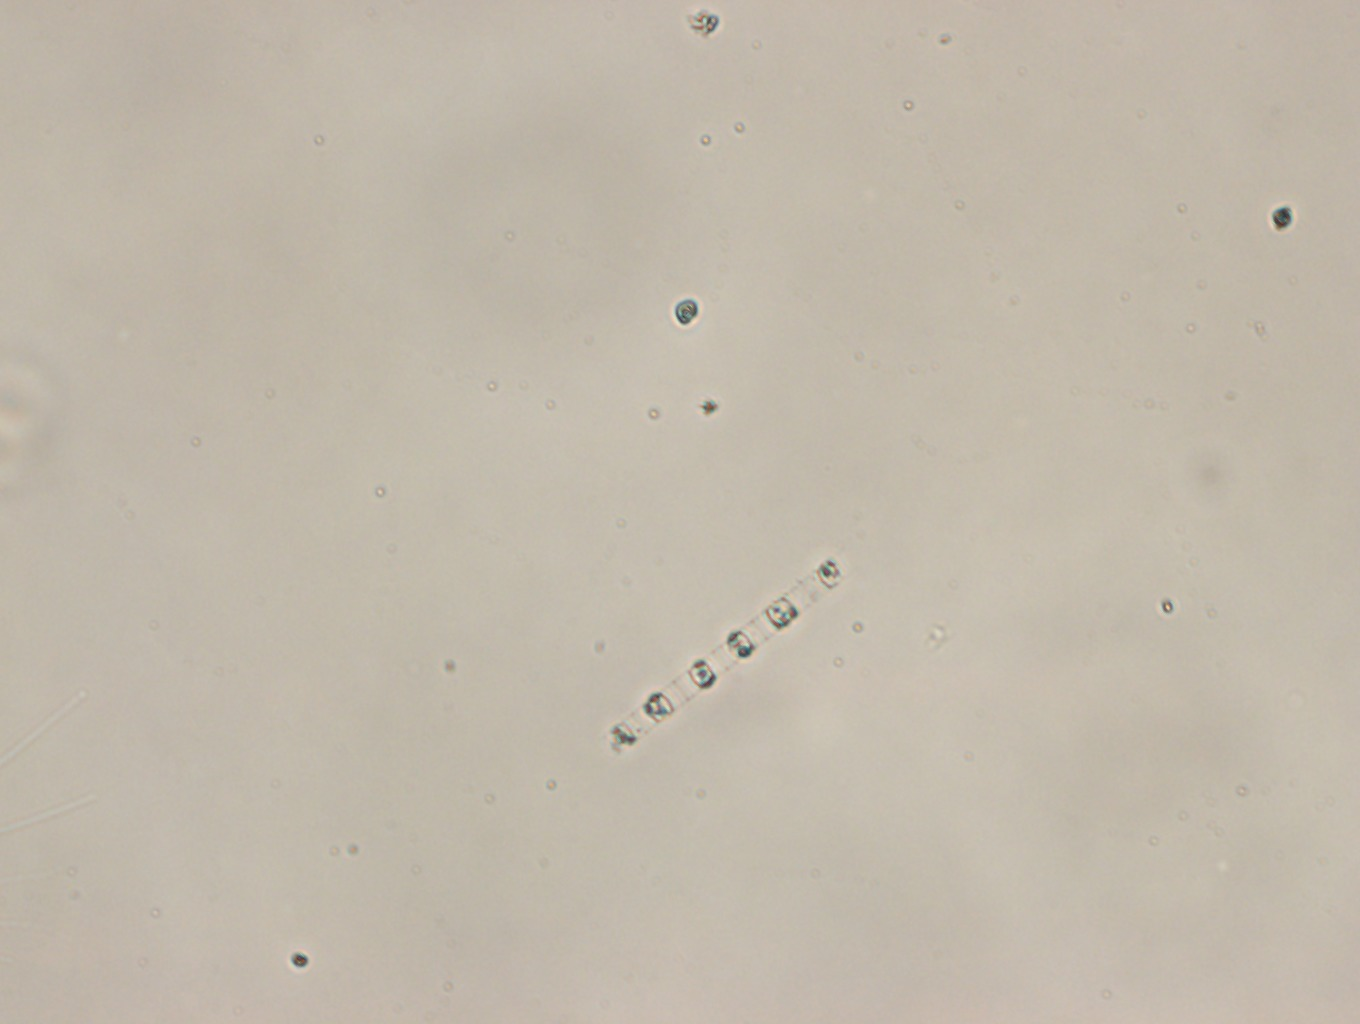skeletonema: (609, 558, 844, 752)
